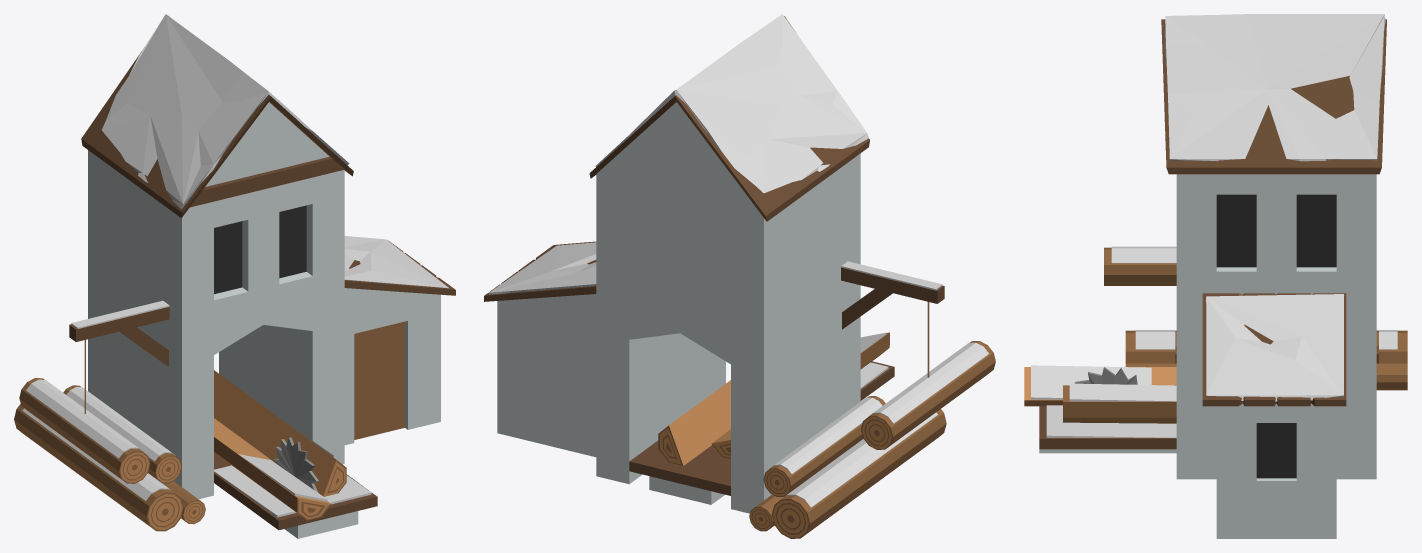
The model's file is SawMill_snow_mat.fbx.
The picture shows the model from 3 angles, left to right: view 1: azimuth 30°, elevation 25°; view 2: azimuth 150°, elevation 25°; view 3: azimuth 270°, elevation 25°; orthographic projection. The views are drawn at different scales.
Parts seen in each view (by area): view 1: SawMill_snow_mat; view 2: SawMill_snow_mat; view 3: SawMill_snow_mat.
Boxes of the visible parts, box(x1,y1,x2,y2) form: SawMill_snow_mat: box(14, 14, 455, 538); SawMill_snow_mat: box(484, 14, 995, 538); SawMill_snow_mat: box(1024, 14, 1407, 538).
Bounding box in the file's own units: 3.86 × 3.91 × 3.15.
